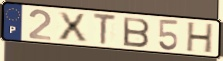2: (27, 8, 54, 42)
5: (158, 19, 180, 52)
B: (122, 16, 152, 49)
H: (185, 21, 215, 55)
T: (92, 12, 118, 47)
X: (56, 11, 89, 43)
